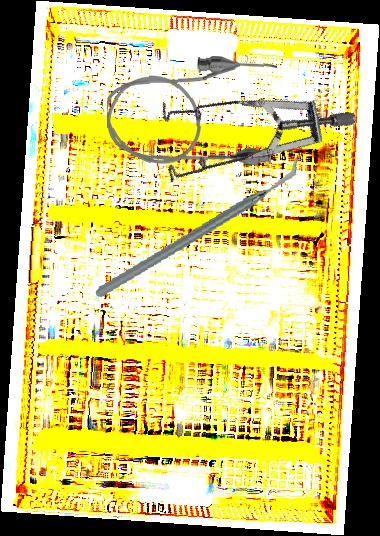Cannula: (105, 54, 281, 170)
Chopper: (80, 156, 317, 299)
Speculum: (133, 36, 361, 245)
